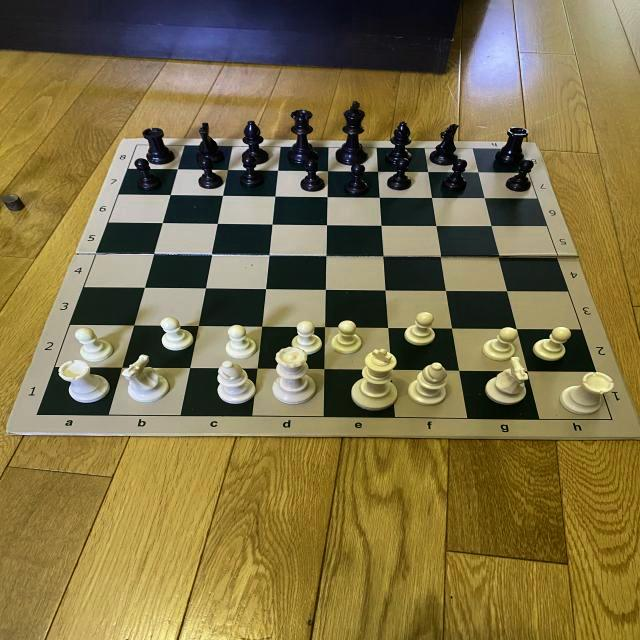chess-table-corners: (34, 410, 44, 418), (606, 416, 616, 421), (133, 140, 140, 146)
